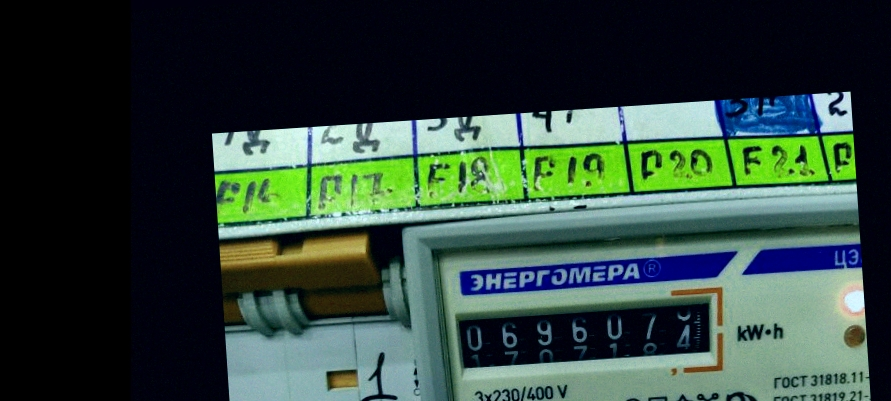0: (463, 321, 486, 352), (604, 311, 625, 341)
4: (672, 321, 693, 352)
6: (569, 313, 591, 345), (499, 319, 520, 349)
7: (639, 308, 659, 340)
9: (534, 316, 556, 347)
screen: (443, 279, 732, 389)
